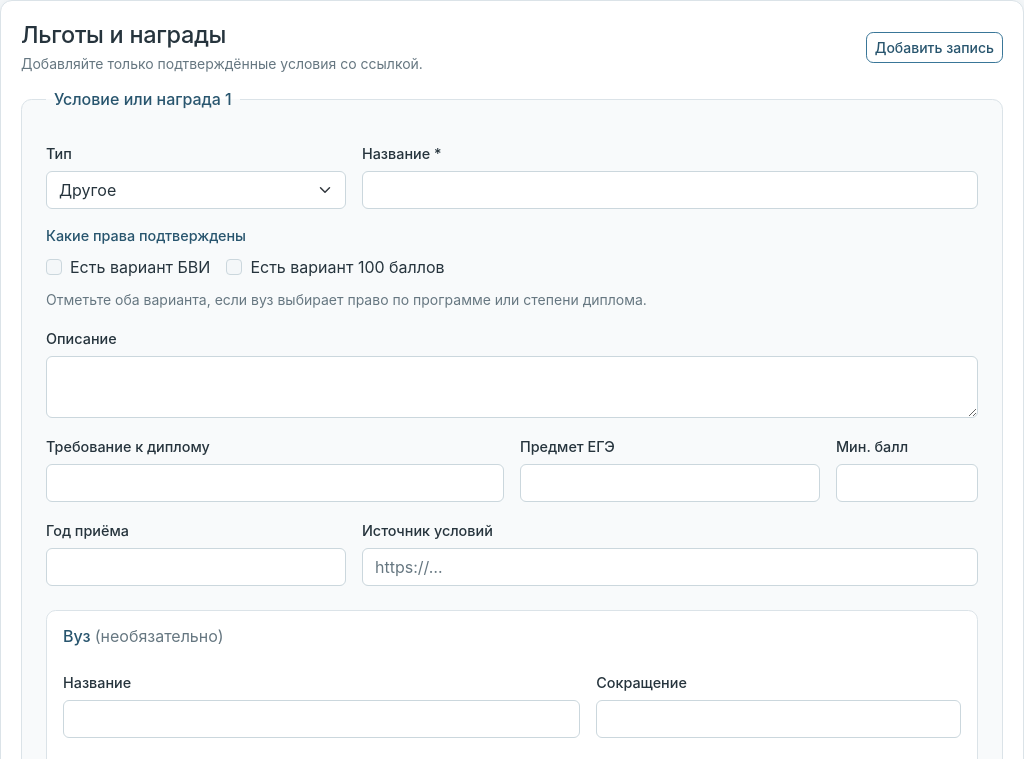
Scenario: AdminBenefitsEditor › показывает оба права и автоматически фиксирует право из основного типа
The width and height of the screenshot is (1024, 759).
Expected: the checkbox with id "benefit-has-bvi-0" is not checked, [46,259,62,275]
Expected: the checkbox with id "benefit-has-hundred-points-0" is not checked, [226,259,242,275]
Select "БВИ" in the dropdown with id "benefit-type-0" at (196, 190), box [46,171,346,209]
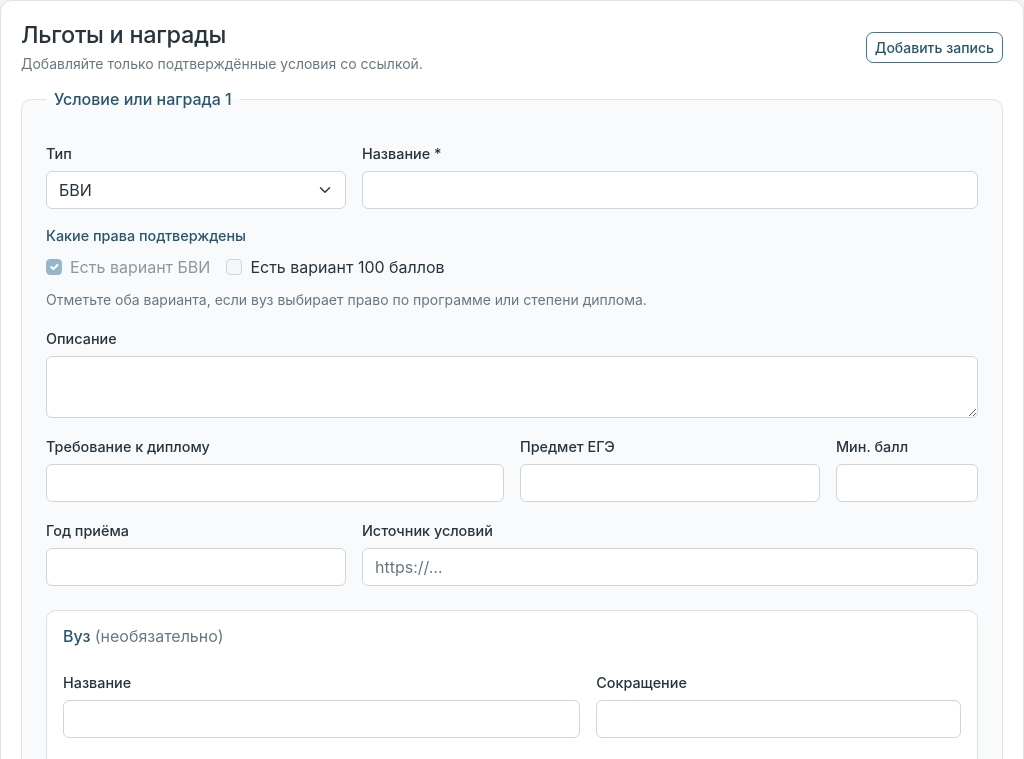
Result: the checkbox with id "benefit-has-bvi-0" is checked at [46,259,62,275]
Result: the checkbox with id "benefit-has-bvi-0" is disabled at [46,259,62,275]
Select "100 баллов" in the dropdown with id "benefit-type-0" at (196, 190), box [46,171,346,209]
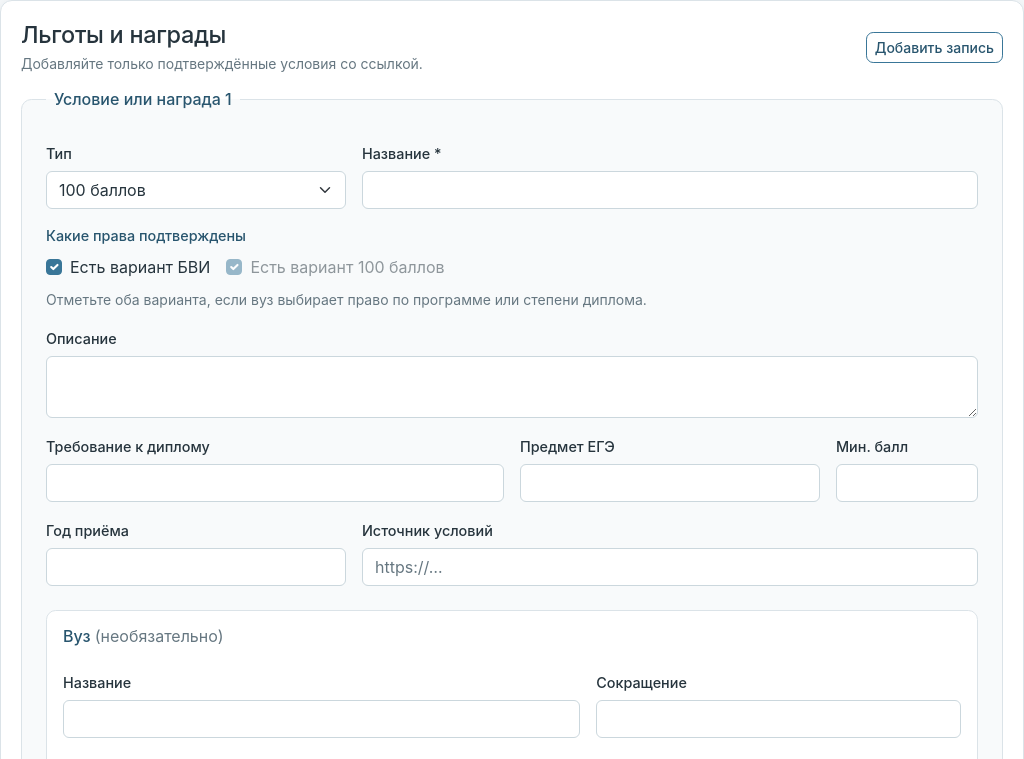
Result: the checkbox with id "benefit-has-hundred-points-0" is checked at [226,259,242,275]
Result: the checkbox with id "benefit-has-hundred-points-0" is disabled at [226,259,242,275]
Select "Приз" in the dropdown with id "benefit-type-0" at (196, 190), box [46,171,346,209]
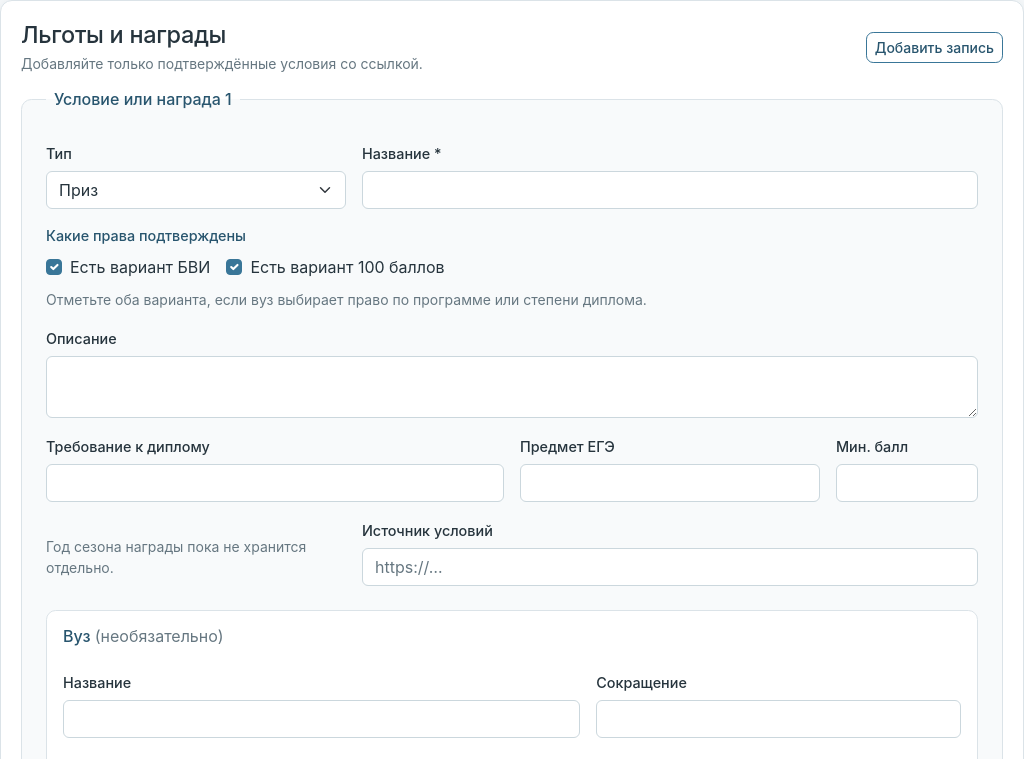
Result: the text "Год сезона награды пока не хранится отдельно" is shown at [46,538,306,576]
